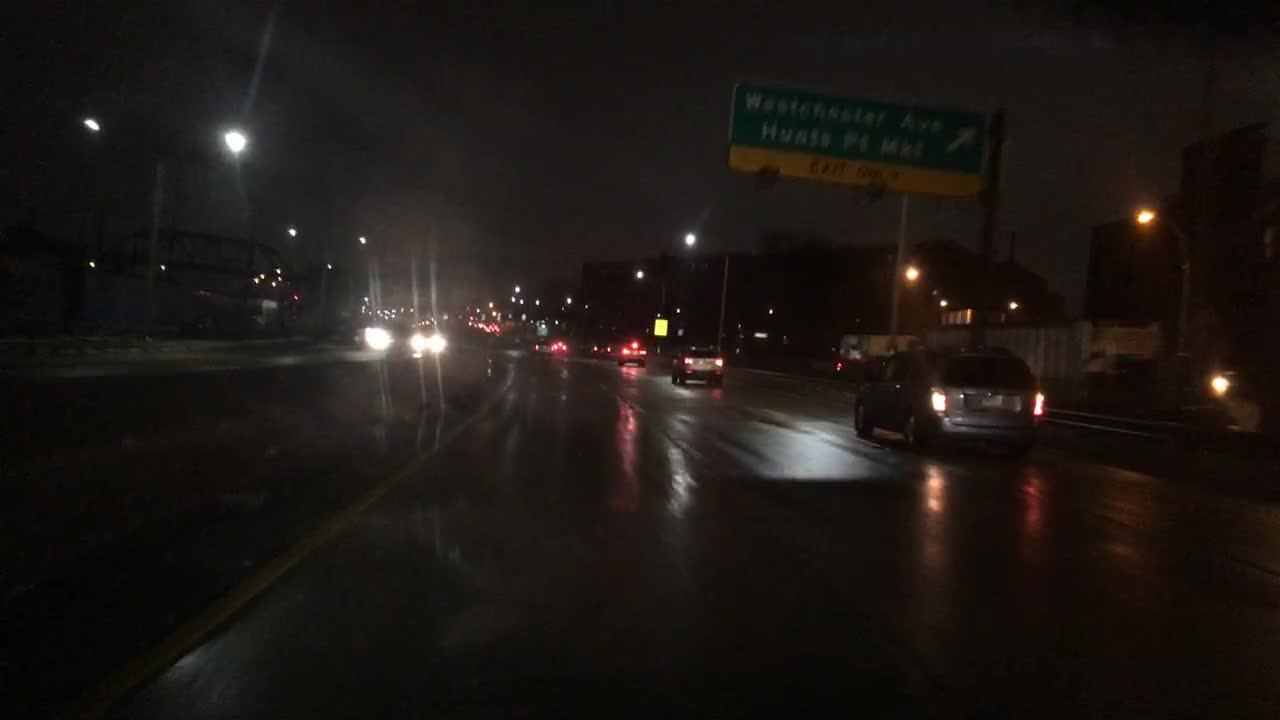car: (854, 344, 1040, 457), (667, 346, 726, 386), (408, 329, 444, 356), (616, 339, 646, 368), (366, 325, 393, 348), (587, 340, 610, 356), (532, 338, 551, 355), (554, 339, 566, 351)
traffic sign: (726, 82, 985, 197), (653, 320, 666, 336)
truck: (832, 331, 916, 373), (245, 296, 282, 326)
